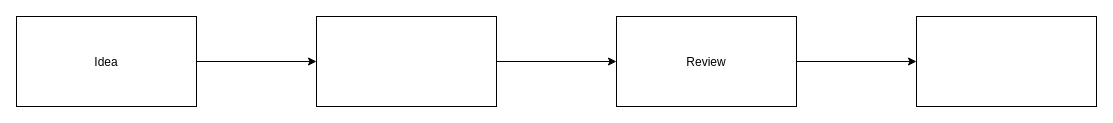
The diagram is 1113 pixels wide and 123 high, and some of its shapes have lost their labels. The shapes that lost their labels are listed below. From the top down, each one's box as (x1, y1, x2, y2) in pixels, then its label:
(316, 16, 496, 106): Draft
(916, 16, 1096, 106): Publish
